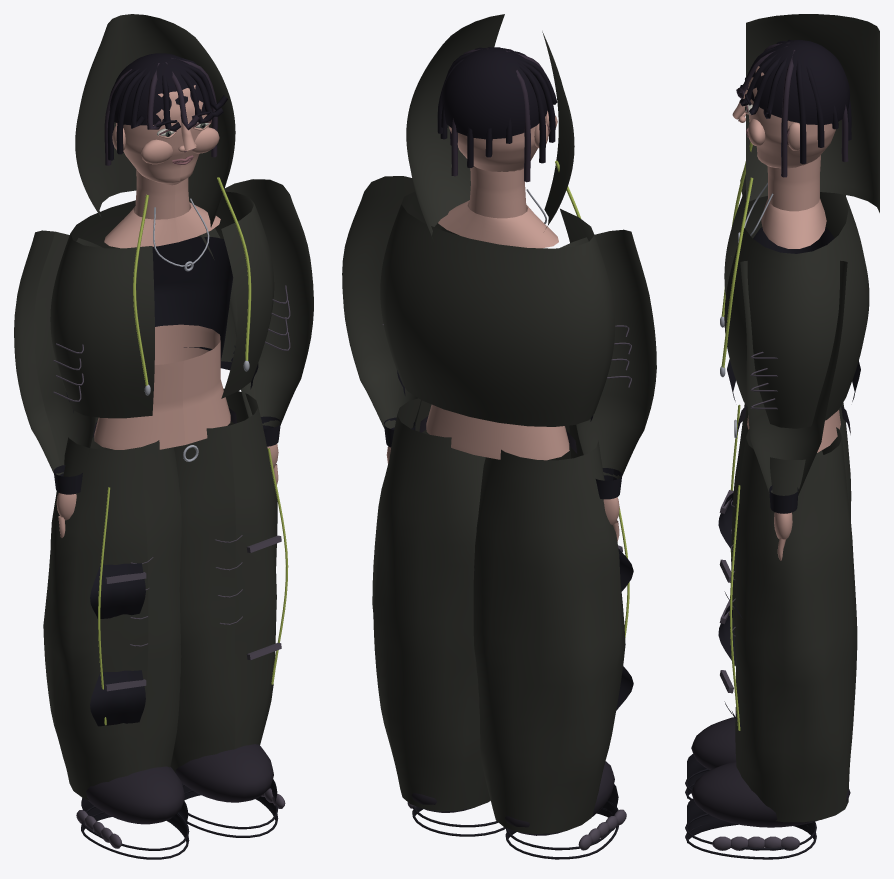
The model's file is look-3-crowd.glb.
The picture shows the model from 3 angles, left to right: view 1: azimuth 30°, elevation 25°; view 2: azimuth 150°, elevation 25°; view 3: azimuth 270°, elevation 25°; orthographic projection. The views are drawn at different scales.
Parts seen in each view (by area): view 1: look-3-crowd, leg-0, leg-1, arm-1, arm-0; view 2: look-3-crowd, leg-0, leg-1, arm-0, arm-1; view 3: look-3-crowd, leg-1, arm-1, leg-0.
Boxes of the visible parts, left/top/right/bottom form: look-3-crowd: left=50, top=14, right=274, bottom=461; leg-0: left=43, top=417, right=189, bottom=859; leg-1: left=170, top=388, right=288, bottom=837; arm-1: left=200, top=179, right=313, bottom=484; arm-0: left=14, top=230, right=103, bottom=537; look-3-crowd: left=380, top=14, right=615, bottom=460; leg-0: left=473, top=425, right=633, bottom=859; leg-1: left=372, top=398, right=505, bottom=836; arm-0: left=560, top=229, right=656, bottom=541; arm-1: left=342, top=176, right=457, bottom=463; look-3-crowd: left=720, top=14, right=879, bottom=452; leg-1: left=685, top=427, right=857, bottom=859; arm-1: left=740, top=260, right=847, bottom=560; leg-0: left=685, top=402, right=851, bottom=800.
Bounding box in the file's own units: 0.8162 × 2.08 × 0.4647.
